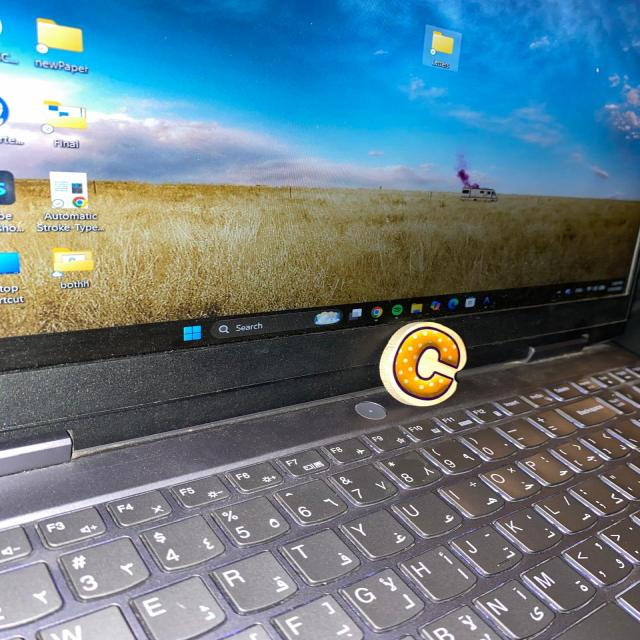C: (380, 322, 465, 406)
